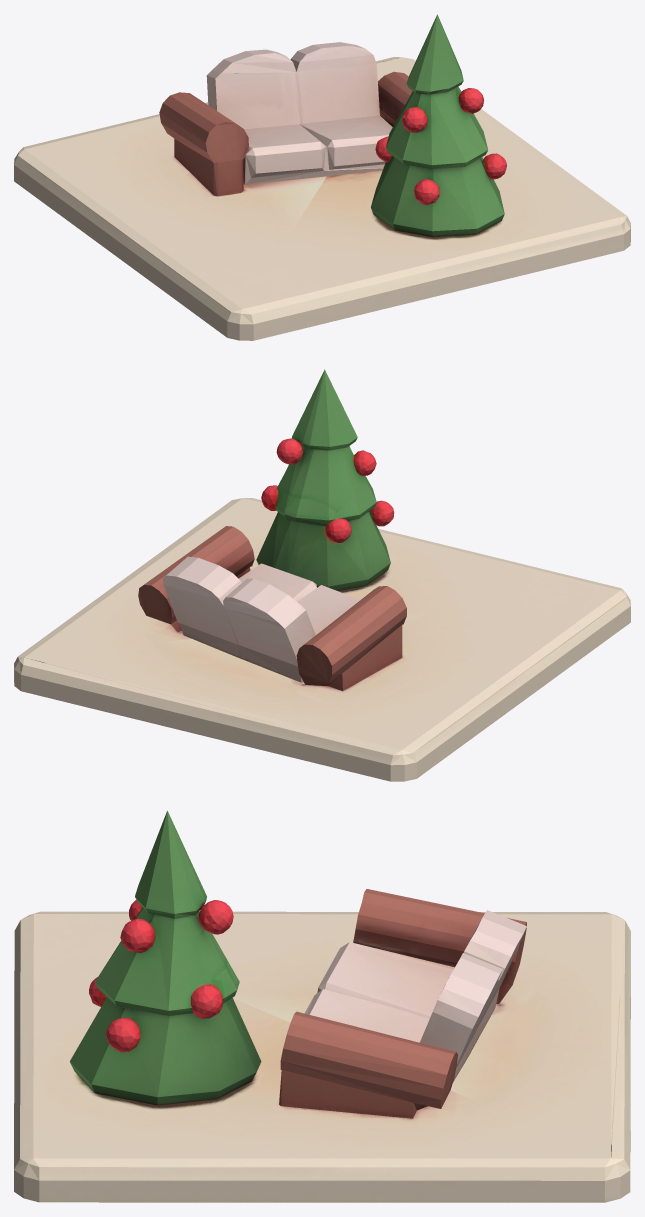
3 views of the same model, one above another, from view 1: azimuth 30°, elevation 25°; view 2: azimuth 150°, elevation 25°; view 3: azimuth 270°, elevation 25° (orthographic). The views are drawn at different scales.
Parts seen in each view (by area): view 1: tripo_mesh_1f0e999a-bf4d-4a0e-8bee-c389e3c90471; view 2: tripo_mesh_1f0e999a-bf4d-4a0e-8bee-c389e3c90471; view 3: tripo_mesh_1f0e999a-bf4d-4a0e-8bee-c389e3c90471.
Part boxes in pixels (box(x1,y1,x2,y2)): tripo_mesh_1f0e999a-bf4d-4a0e-8bee-c389e3c90471: box(14, 14, 630, 340); tripo_mesh_1f0e999a-bf4d-4a0e-8bee-c389e3c90471: box(14, 369, 630, 781); tripo_mesh_1f0e999a-bf4d-4a0e-8bee-c389e3c90471: box(14, 810, 630, 1202).
Bounding box in the file's own units: 1 × 0.5337 × 1.
Materials: 1 (1 with a texture image).
